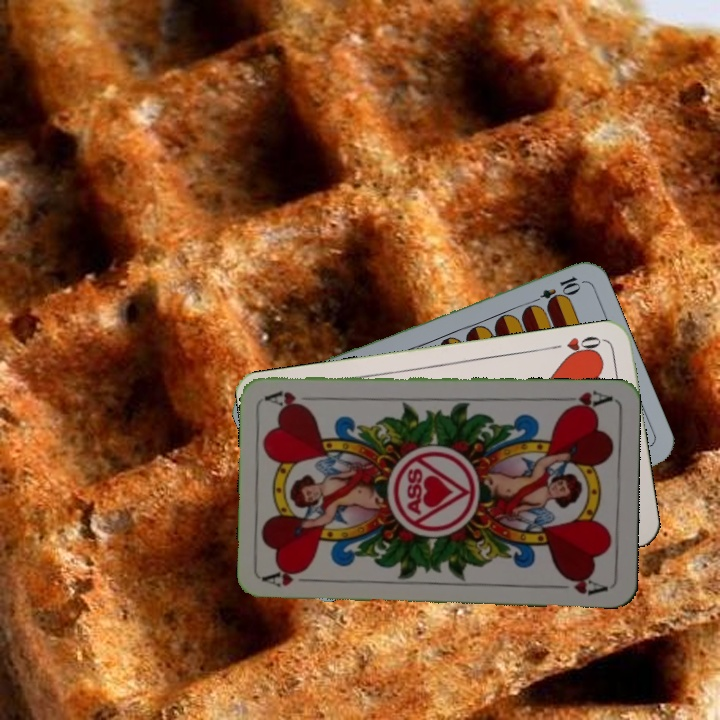E10: (526, 272, 583, 309)
HA: (555, 386, 614, 413), (262, 567, 321, 589)
HO: (547, 332, 606, 360)
